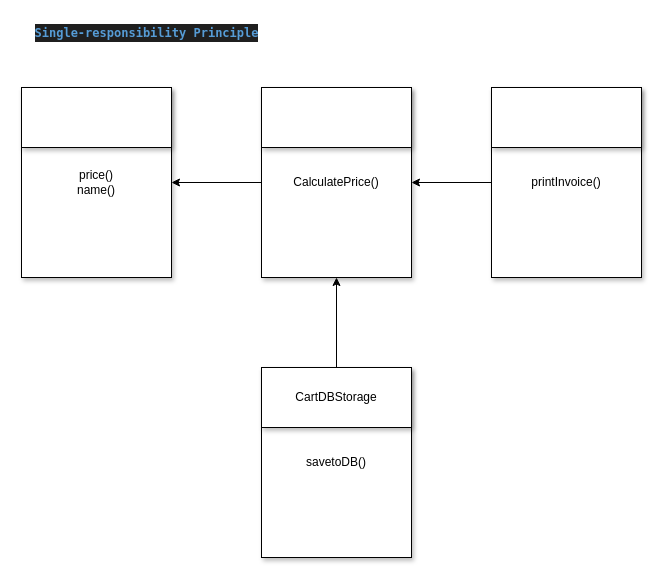
Some shapes in this 665 by 582 pixel diagram are drawn without their labels. The centre of each missing label's shape, as x and y in pixels:
"CartinvoicePrinter" belongs at (567,118).
"Product" belongs at (97,118).
"ShopingCart" belongs at (337,118).
